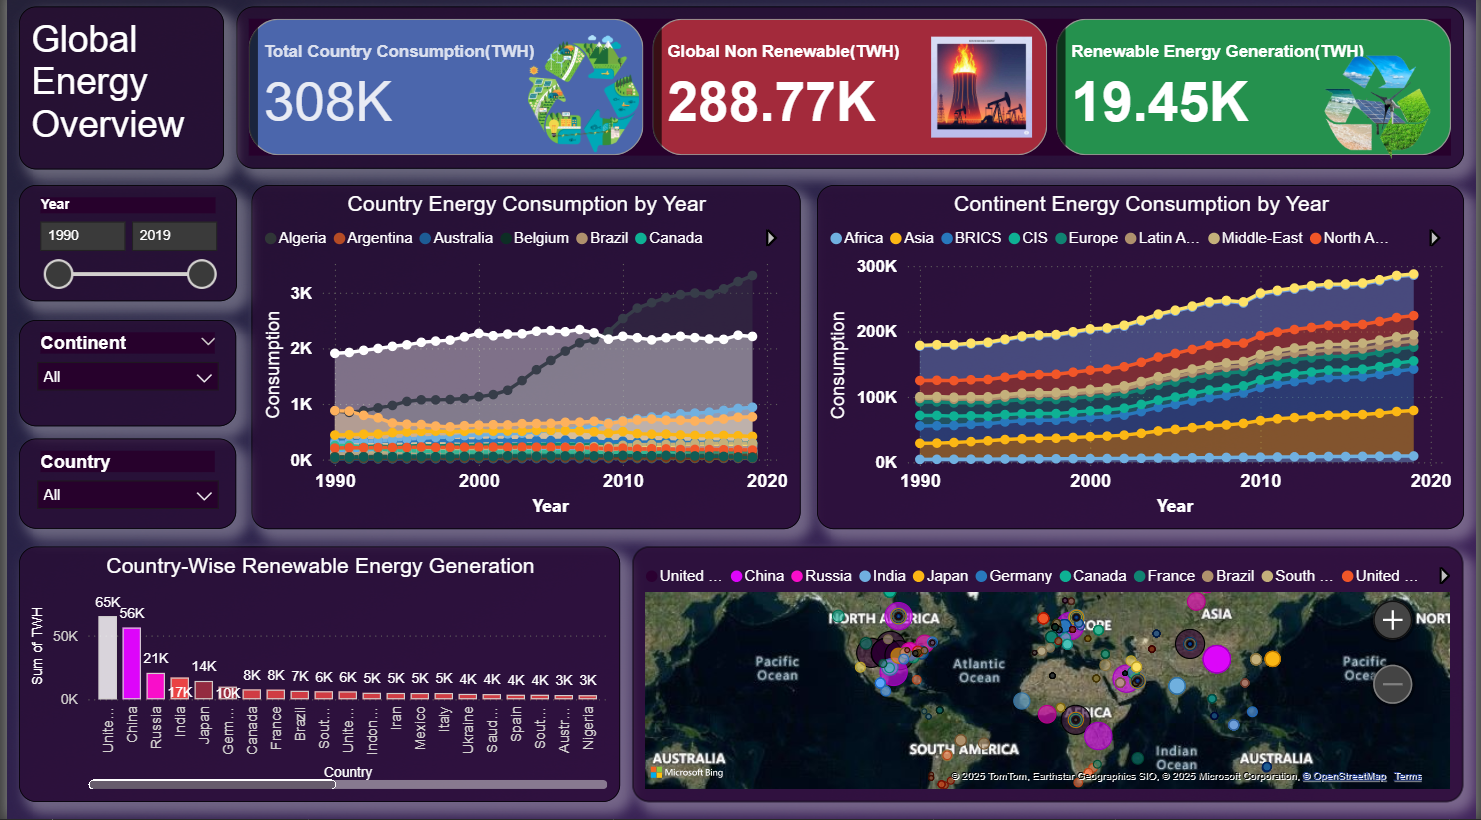

The page's visual inventory and layout, read from the dashboard file:
{"tool":"powerbi","page":{"name":"Global Energy Overview","canvas":[1280,720],"ordinal":0},"visuals":[{"type":"cardVisual","fields":{"Data":["Country_Consumption_TWH.Total_Global_Consumption","nonRenewablesTotalPowerGeneration.Total Non- Renewable","Sum(renewablesTotalPowerGeneration.Contribution (TWh))"]},"box":[200,11.4,1070,141.4],"z":0},{"type":"textbox","box":[10,11.7,178.3,141.7],"z":1000},{"type":"clusteredColumnChart","title":"Country-Wise Renewable Energy Generation","fields":{"Category":["Country_Table.Country"],"Y":["Sum(Country_Table.TWH)"]},"box":[10,482.9,524.3,222.9],"z":2000},{"type":"areaChart","title":"Country Energy Consumption by Year","fields":{"Category":["Country_Table.Year"],"Series":["Country_Table.Country"],"Y":["Max(Country_Table.TWH)"]},"box":[212.9,167.1,478.6,300],"z":3000},{"type":"image","box":[800.2,31.4,98.1,100.7],"z":4000},{"type":"stackedAreaChart","title":"Continent Energy Consumption by Year","fields":{"Category":["Continent_Table.Year"],"Y":["Sum(Continent_Table.TWH)"],"Series":["Continent_Table.Continent"]},"box":[705.7,167.1,564.3,300],"z":5000},{"type":"slicer","fields":{"Values":["Continent_Table.Year"]},"box":[10,167.1,190,101.4],"z":6000},{"type":"slicer","fields":{"Values":["Continent_Table.Continent"]},"box":[10.5,285,189.6,92.8],"z":7000},{"type":"slicer","fields":{"Values":["Country_Table.Country"]},"box":[10.5,388.3,189.6,78.5],"z":8000},{"type":"map","fields":{"Category":["Country_Table.Country","Continent_Table.Continent"],"Series":["Country_Table.Country"],"Size":["Sum(Country_Table.TWH)"]},"box":[545.7,482.9,724.3,222.9],"z":9000},{"type":"image","box":[427.6,31.4,150.4,112.4],"z":10000},{"type":"image","box":[1142.8,45.8,103.3,107.2],"z":11000}]}

Visuals, with their boxes in screenshot pixels (x1, y1, x2, y2), scaled from the page's 1280x720 canvas onto the 1481x820 screenshot:
cardVisual - Country_Consumption_TWH.Total_Global_Consumption x nonRenewablesTotalPowerGeneration.Total Non- Renewable: (left=231, top=13, right=1469, bottom=174)
textbox: (left=12, top=13, right=218, bottom=175)
"Country-Wise Renewable Energy Generation" clusteredColumnChart: (left=12, top=550, right=618, bottom=804)
"Country Energy Consumption by Year" areaChart: (left=246, top=190, right=800, bottom=532)
image: (left=926, top=36, right=1039, bottom=150)
"Continent Energy Consumption by Year" stackedAreaChart: (left=817, top=190, right=1469, bottom=532)
slicer - Continent_Table.Year: (left=12, top=190, right=231, bottom=306)
slicer - Continent_Table.Continent: (left=12, top=325, right=232, bottom=430)
slicer - Country_Table.Country: (left=12, top=442, right=232, bottom=532)
map - Country_Table.Country x Continent_Table.Continent: (left=631, top=550, right=1469, bottom=804)
image: (left=495, top=36, right=669, bottom=164)
image: (left=1322, top=52, right=1442, bottom=174)
